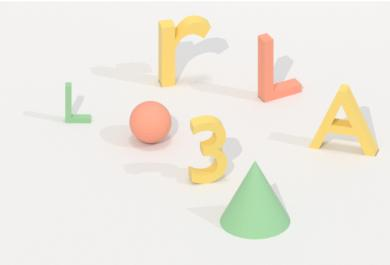0-TamGiac: (217, 160, 296, 243)
0-Tron: (127, 98, 174, 148)
3: (185, 113, 230, 190)
A: (307, 80, 382, 163)
L: (254, 29, 307, 106), (62, 78, 95, 130)
r: (154, 12, 213, 93)
